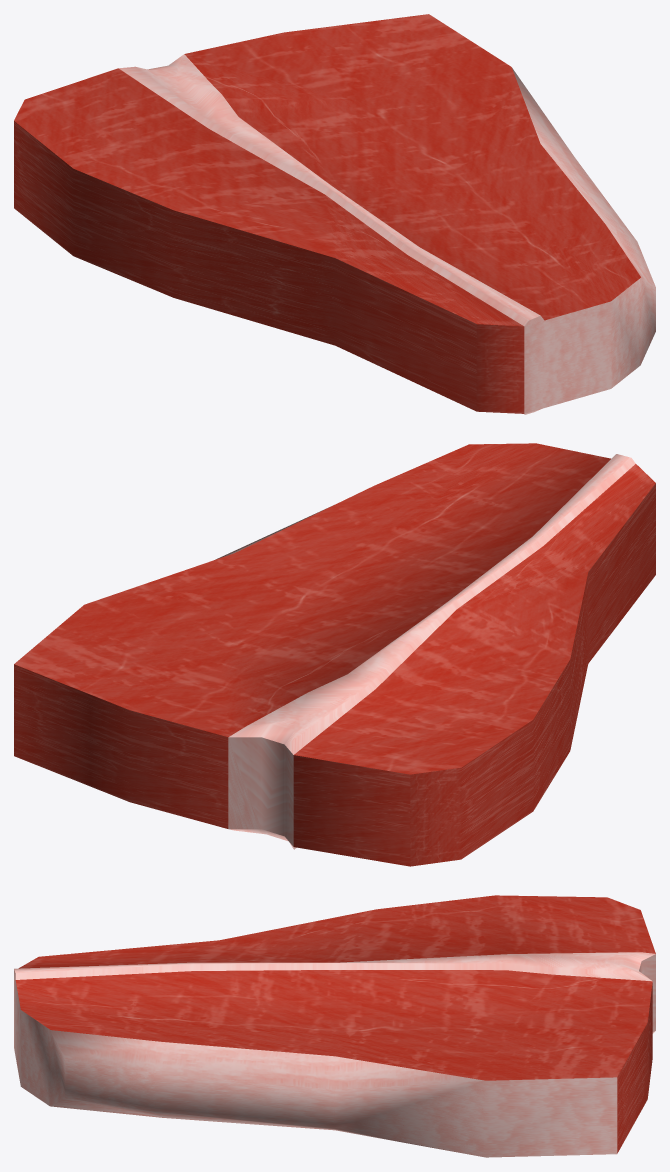
File: liha.FBX
The picture shows the model from 3 angles, top to bottom: view 1: azimuth 30°, elevation 25°; view 2: azimuth 150°, elevation 25°; view 3: azimuth 270°, elevation 25°; orthographic projection. The views are drawn at different scales.
Parts seen in each view (by area): view 1: Box002; view 2: Box002; view 3: Box002.
Boxes of the visible parts, box(x1,y1,x2,y2) form: Box002: box(14, 14, 655, 414); Box002: box(14, 443, 655, 866); Box002: box(14, 895, 655, 1157).
Bounding box in the file's own units: 45.62 × 10.19 × 66.79.
